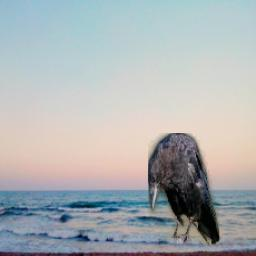Crow: (148, 133, 219, 245)
